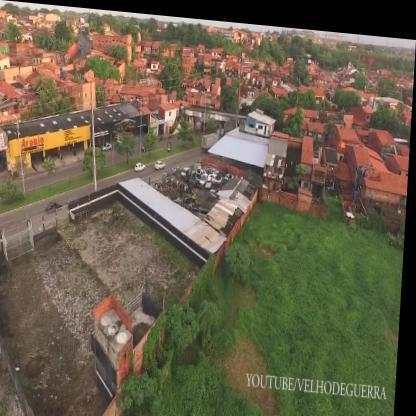lixo: (194, 159, 228, 190), (164, 169, 196, 199)
